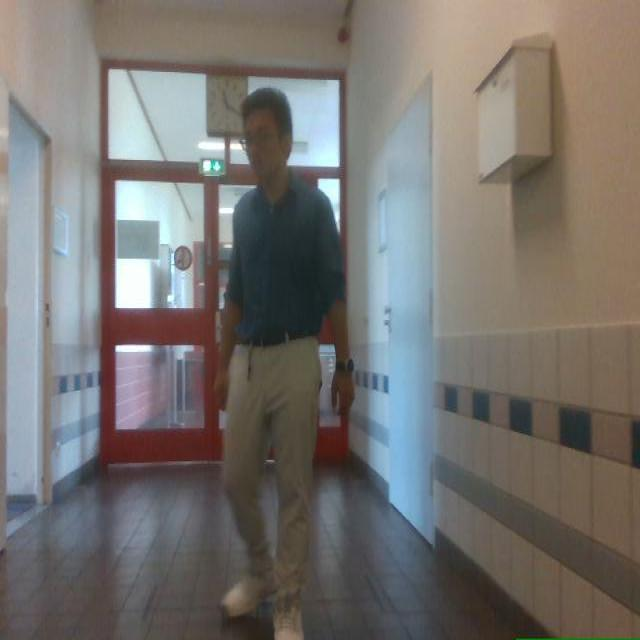humans: (214, 88, 353, 639)
